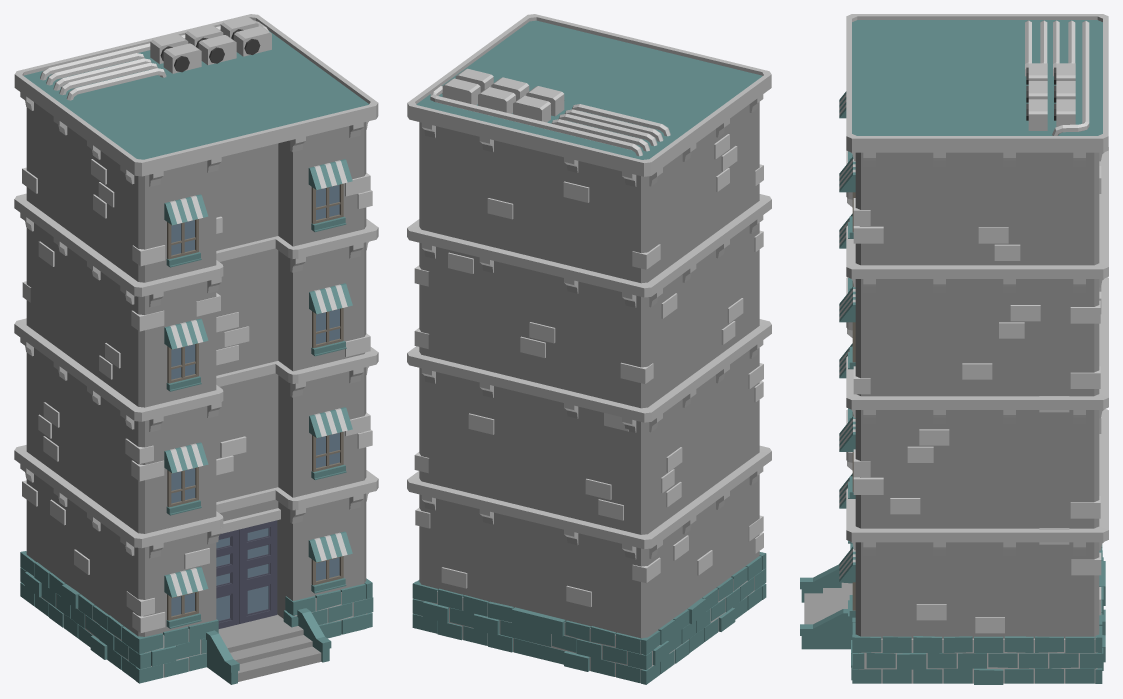
Rendered from 4Story_Center.glb.
3 views of the same model, side by side, from view 1: azimuth 30°, elevation 25°; view 2: azimuth 150°, elevation 25°; view 3: azimuth 270°, elevation 25° (orthographic). The views are drawn at different scales.
Visible parts, largest first — view 1: 4Story_Center_Cube.027; view 2: 4Story_Center_Cube.027; view 3: 4Story_Center_Cube.027.
Boxes of the visible parts, x1,y1,x2,y2 form: 4Story_Center_Cube.027: (14,14,378,684); 4Story_Center_Cube.027: (407,14,771,684); 4Story_Center_Cube.027: (800,14,1108,684).
Size of the model in its own units: 2.42 by 5.09 by 2.53.
Materials: 1 (1 with a texture image).
